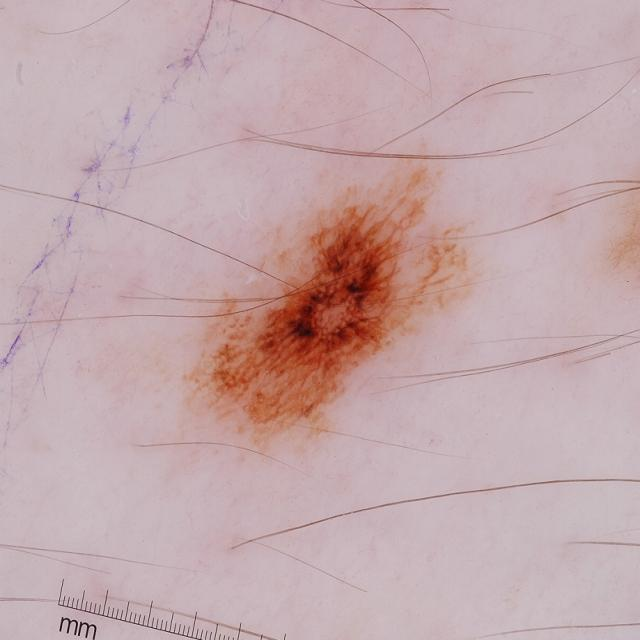Skin-Cancer Nevus: (43, 21, 522, 546)
